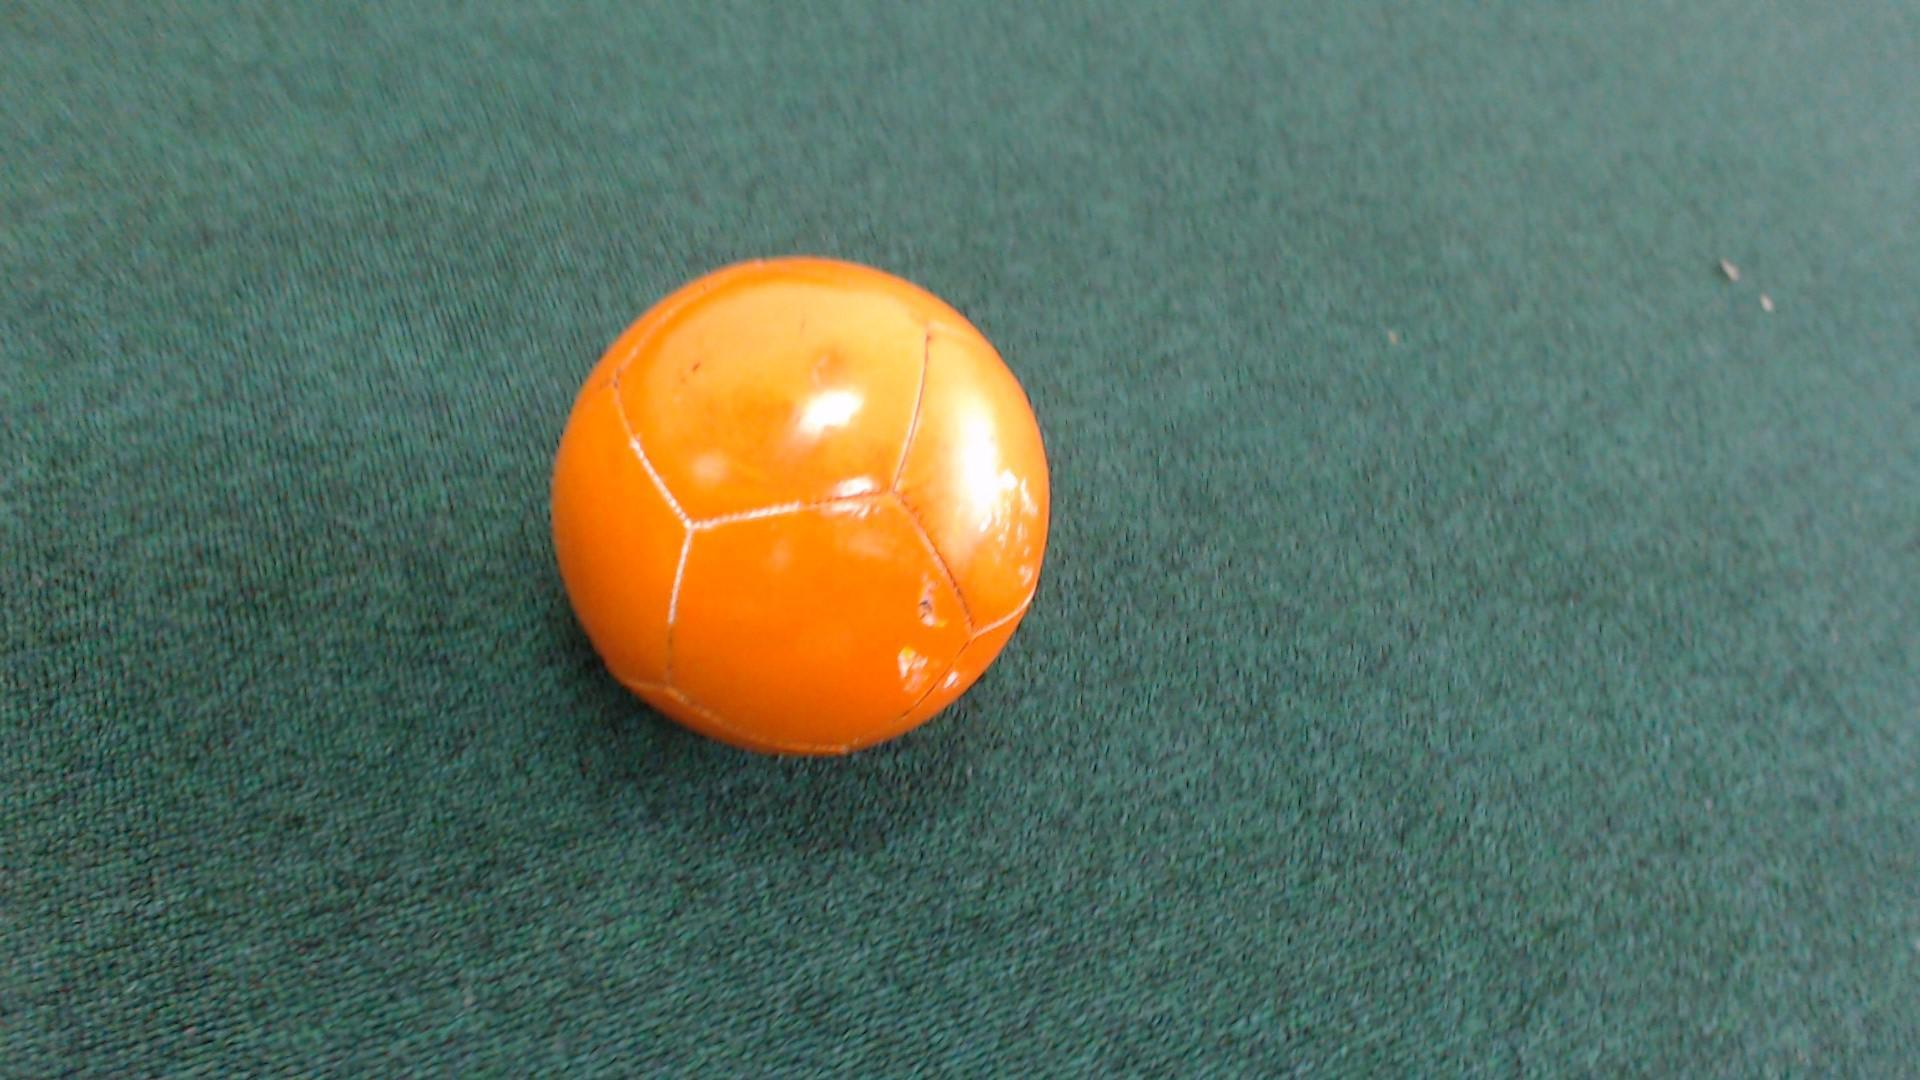bola: (521, 236, 1095, 802)
